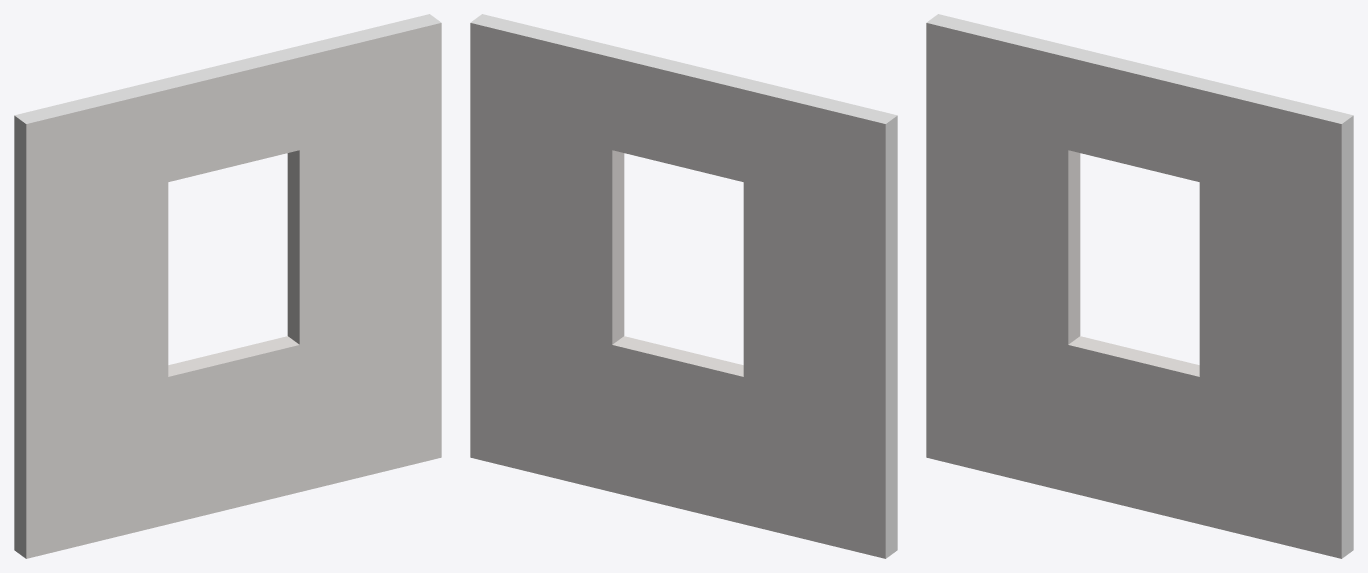
Rendered from wall_095.fbx.
3 views of the same model, side by side, from view 1: azimuth 30°, elevation 25°; view 2: azimuth 150°, elevation 25°; view 3: azimuth 330°, elevation 25° (orthographic).
Visible parts, largest first — view 1: wall_095; view 2: wall_095; view 3: wall_095.
Boxes of the visible parts, x1,y1,x2,y2 form: wall_095: (14, 14, 441, 558); wall_095: (470, 14, 897, 558); wall_095: (926, 14, 1353, 558).
Bounding box in the file's own units: 400 × 20 × 400.
